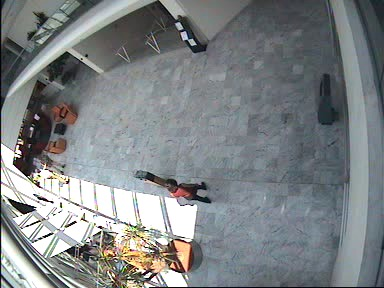person: (166, 179, 212, 203), (35, 165, 69, 184), (35, 154, 64, 173)
